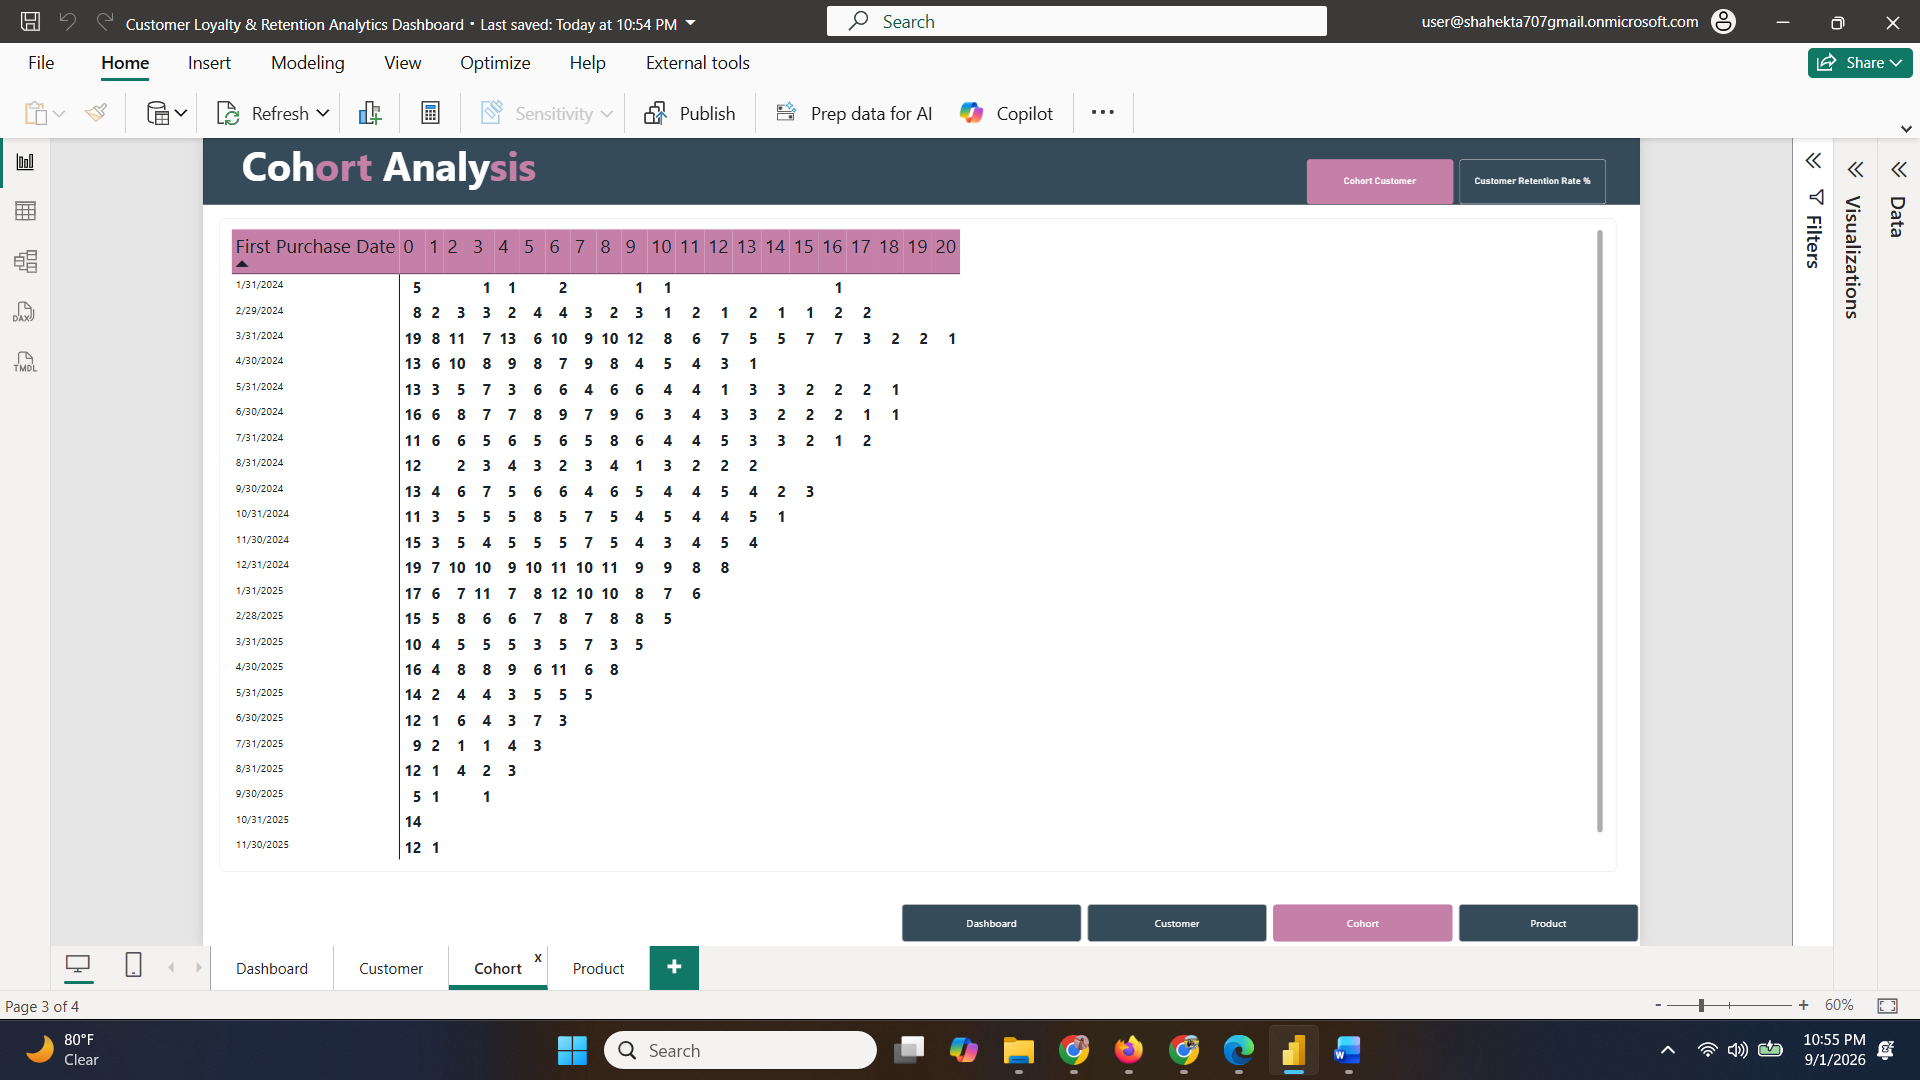

The page's visual inventory and layout, read from the dashboard file:
{"tool":"powerbi","page":{"name":"Cohort","canvas":[1920,1080],"ordinal":2},"visuals":[{"type":"shape","box":[0,0,1920.4,89],"z":0},{"type":"pivotTable","fields":{"Columns":["Fact_OnlineSales.Cohurt Period"],"Rows":["Dim_Customers.First Purchase Date"],"Values":["_Measures.Cohort Customer"]},"box":[20.9,106.4,1866.3,873.8],"z":2000},{"type":"pageNavigator","box":[933,1023,987,50.4],"z":3000},{"type":"textbox","box":[52.2,0,590.6,127.3],"z":3001},{"type":"advancedSlicerVisual","fields":{"Values":["Parameter_Cohort.Parameter_Cohort"]},"box":[1273.3,33.1,647.1,55.8],"z":3002}]}

Visuals, with their boxes on the page's 1920x1080 design canvas (x1, y1, x2, y2). These are canvas units, not pixel positions in the 1920x1080 screenshot, which may show the page scaled, cropped or inside an application window:
shape: l=0, t=0, r=1920, b=89
pivotTable - Fact_OnlineSales.Cohurt Period x Dim_Customers.First Purchase Date: l=21, t=106, r=1887, b=980
pageNavigator: l=933, t=1023, r=1920, b=1073
textbox: l=52, t=0, r=643, b=127
advancedSlicerVisual - Parameter_Cohort.Parameter_Cohort: l=1273, t=33, r=1920, b=89
